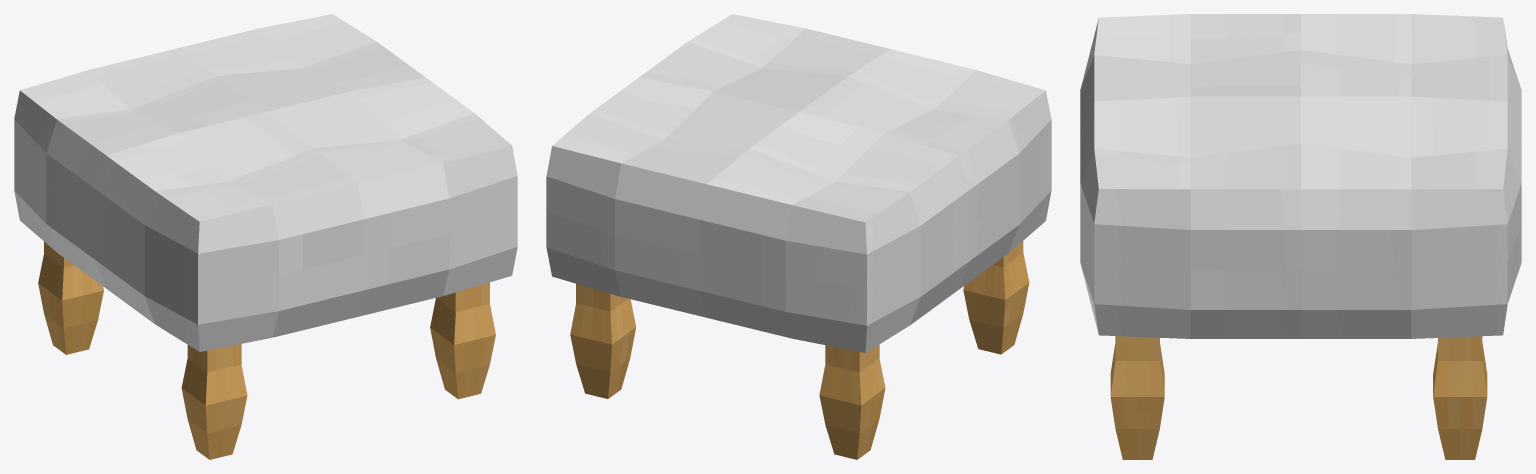
File: simple_small_footstool.obj
3 views of the same model, side by side, from view 1: azimuth 30°, elevation 25°; view 2: azimuth 150°, elevation 25°; view 3: azimuth 270°, elevation 25° (orthographic). The views are drawn at different scales.
Visible parts, largest first — view 1: Cube.004; view 2: Cube.004; view 3: Cube.004.
Part boxes in pixels (left/top/right/bottom): Cube.004: left=14, top=14, right=517, bottom=459; Cube.004: left=546, top=14, right=1051, bottom=459; Cube.004: left=1080, top=14, right=1521, bottom=459.
Bounding box in the file's own units: 1.51 × 1.09 × 1.51.
